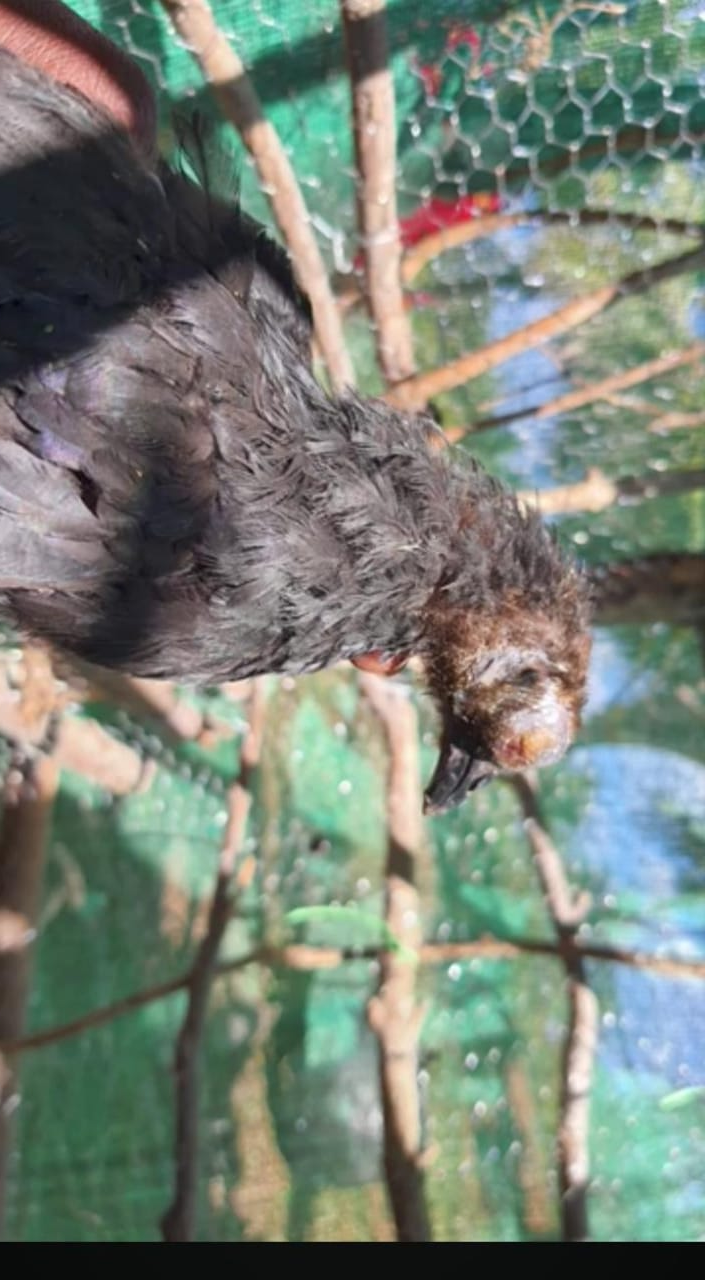Unhealthy: (1, 1, 600, 857)
